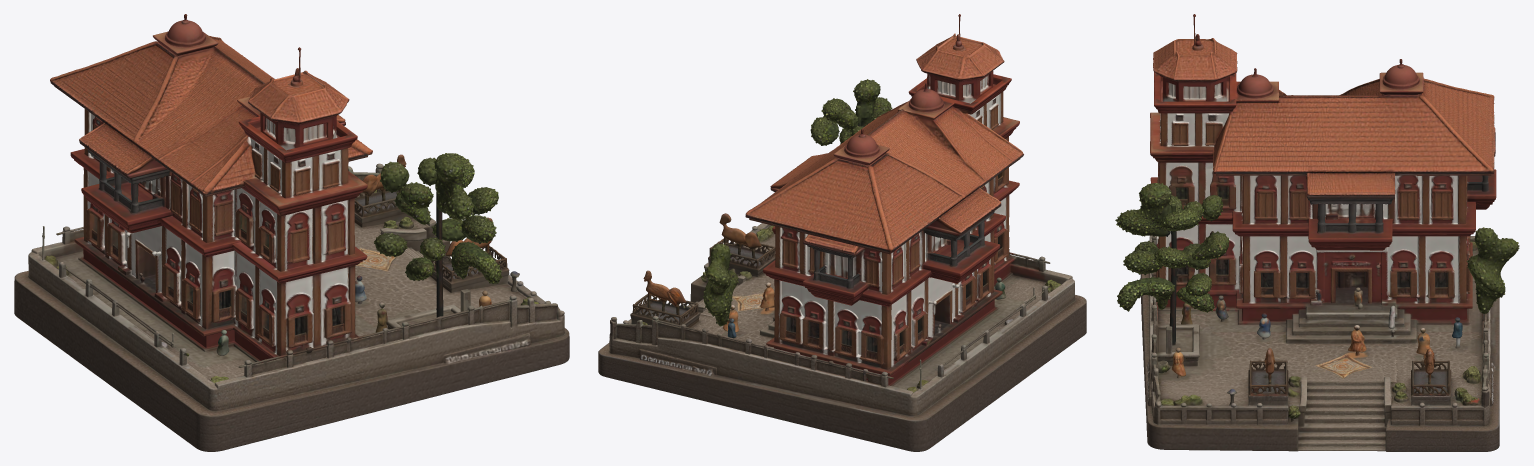
Rendered from lal_mahal.glb.
3 renders of one model, left to right at view 1: azimuth 30°, elevation 25°; view 2: azimuth 150°, elevation 25°; view 3: azimuth 270°, elevation 25°, orthographic. The views are drawn at different scales.
Visible parts, largest first — view 1: tripo_node_55f92d85-8a87-43f5-8d92-4679395f3862; view 2: tripo_node_55f92d85-8a87-43f5-8d92-4679395f3862; view 3: tripo_node_55f92d85-8a87-43f5-8d92-4679395f3862.
Part boxes in pixels (x1,y1,x2,y2): tripo_node_55f92d85-8a87-43f5-8d92-4679395f3862: (14,14,569,451); tripo_node_55f92d85-8a87-43f5-8d92-4679395f3862: (598,14,1086,451); tripo_node_55f92d85-8a87-43f5-8d92-4679395f3862: (1115,14,1519,451).
Size of the model in its own units: 0.9894 by 0.8857 by 1.
Materials: 1 (1 with a texture image).
